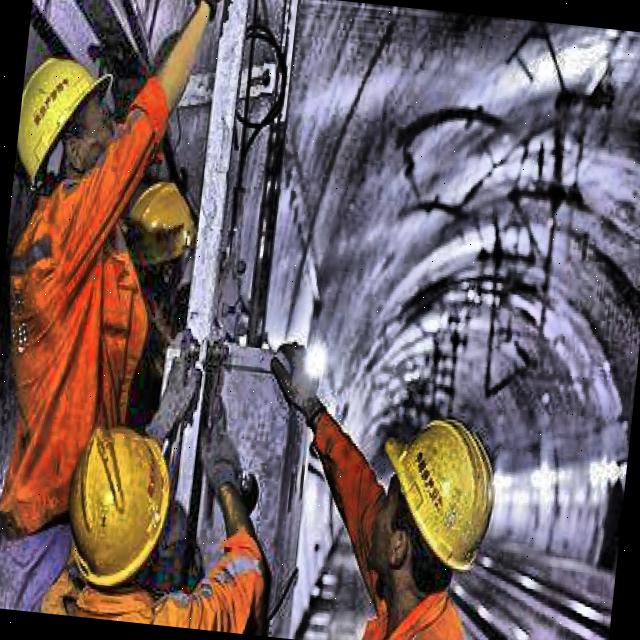helmet: (358, 382, 514, 604), (43, 412, 188, 594), (13, 35, 135, 208), (116, 180, 200, 284)
